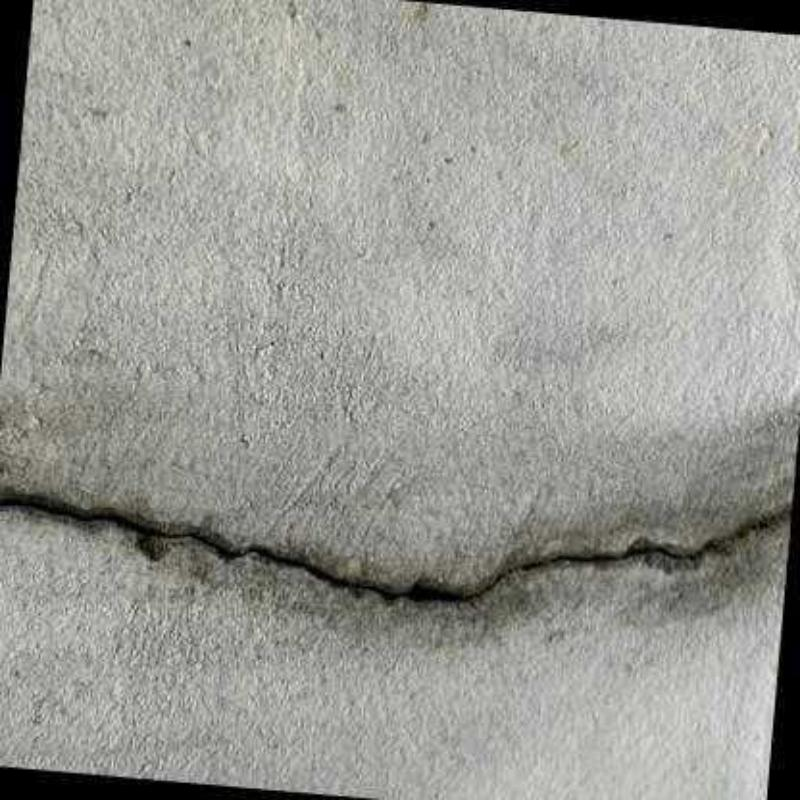crack: (0, 497, 792, 604)
